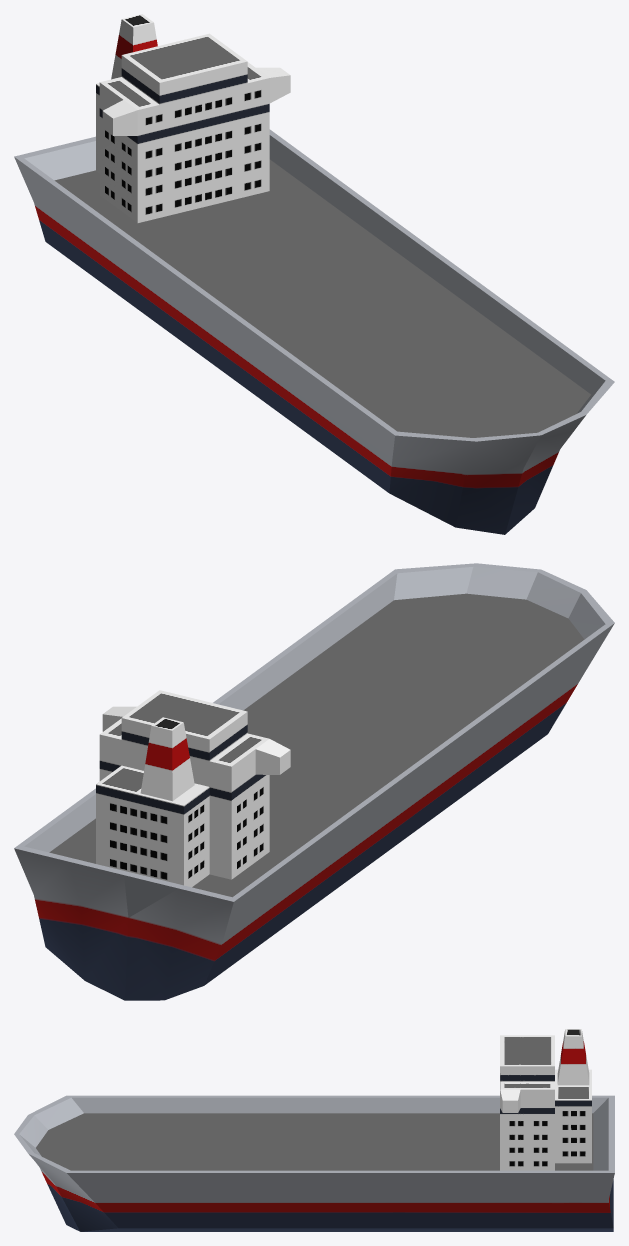
The model's file is ship.glb.
The picture shows the model from 3 angles, top to bottom: view 1: azimuth 30°, elevation 25°; view 2: azimuth 150°, elevation 25°; view 3: azimuth 270°, elevation 25°; orthographic projection. The views are drawn at different scales.
Visible parts, largest first — view 1: mesh_041, mesh_037, mesh_002, mesh_005, mesh_017, mesh_015, mesh_060, mesh_035, mesh_029, mesh_027, mesh_022, mesh_011 (+2 smaller); view 2: mesh_041, mesh_037, mesh_004, mesh_003, mesh_059, mesh_007, mesh_017, mesh_015, mesh_060, mesh_029, mesh_040, mesh_018 (+9 smaller); view 3: mesh_057, mesh_041, mesh_021, mesh_009, mesh_047, mesh_038, mesh_034, mesh_060, mesh_027, mesh_029, mesh_045, mesh_010 (+7 smaller).
Boxes of the visible parts, bbox=[...] form: mesh_041: bbox=[54, 159, 590, 437]; mesh_037: bbox=[14, 157, 394, 492]; mesh_002: bbox=[137, 61, 269, 222]; mesh_005: bbox=[389, 435, 540, 534]; mesh_017: bbox=[269, 135, 605, 394]; mesh_015: bbox=[99, 82, 137, 222]; mesh_060: bbox=[122, 33, 247, 82]; mesh_035: bbox=[505, 415, 585, 534]; mesh_029: bbox=[14, 156, 397, 434]; mesh_027: bbox=[269, 129, 614, 381]; mesh_022: bbox=[24, 146, 87, 180]; mesh_011: bbox=[121, 55, 159, 104]; mesh_041: bbox=[49, 593, 584, 897]; mesh_037: bbox=[204, 623, 614, 985]; mesh_004: bbox=[14, 848, 128, 1000]; mesh_003: bbox=[124, 875, 233, 1000]; mesh_059: bbox=[96, 784, 183, 885]; mesh_007: bbox=[99, 718, 231, 879]; mesh_017: bbox=[24, 573, 397, 852]; mesh_015: bbox=[231, 749, 269, 879]; mesh_060: bbox=[122, 690, 247, 739]; mesh_029: bbox=[232, 623, 614, 901]; mesh_040: bbox=[184, 787, 209, 887]; mesh_018: bbox=[394, 567, 473, 600]; mesh_057: bbox=[67, 1173, 614, 1228]; mesh_041: bbox=[36, 1113, 593, 1170]; mesh_021: bbox=[72, 1097, 607, 1113]; mesh_009: bbox=[500, 1089, 554, 1170]; mesh_047: bbox=[555, 1100, 591, 1163]; mesh_038: bbox=[81, 1228, 613, 1231]; mesh_034: bbox=[29, 1154, 117, 1231]; mesh_060: bbox=[500, 1035, 554, 1066]; mesh_027: bbox=[66, 1170, 614, 1172]; mesh_029: bbox=[67, 1095, 613, 1097]; mesh_045: bbox=[557, 1036, 589, 1085]; mesh_010: bbox=[500, 1066, 554, 1081].
Size of the model in its own units: 24.25 by 27.39 by 79.75.
1 material, 1 textured.
